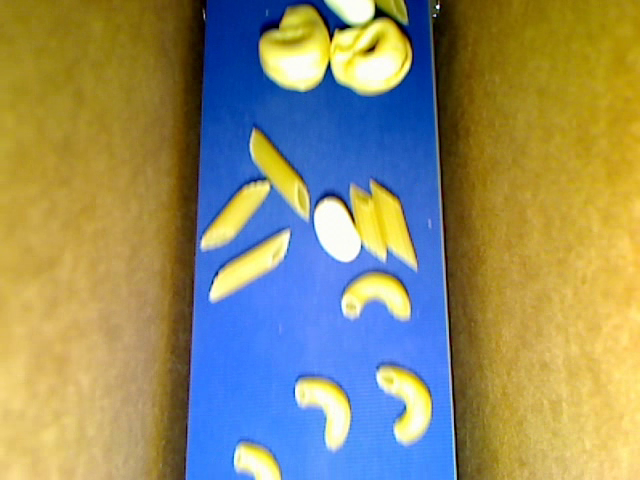elbow: (374, 363, 433, 447), (294, 375, 351, 451), (341, 271, 410, 319), (233, 439, 283, 479)
penne: (207, 228, 290, 303), (248, 126, 310, 220), (198, 181, 270, 251), (369, 177, 419, 271), (348, 183, 388, 263), (373, 1, 408, 26)
tortellini: (329, 16, 413, 95), (259, 6, 330, 92)
